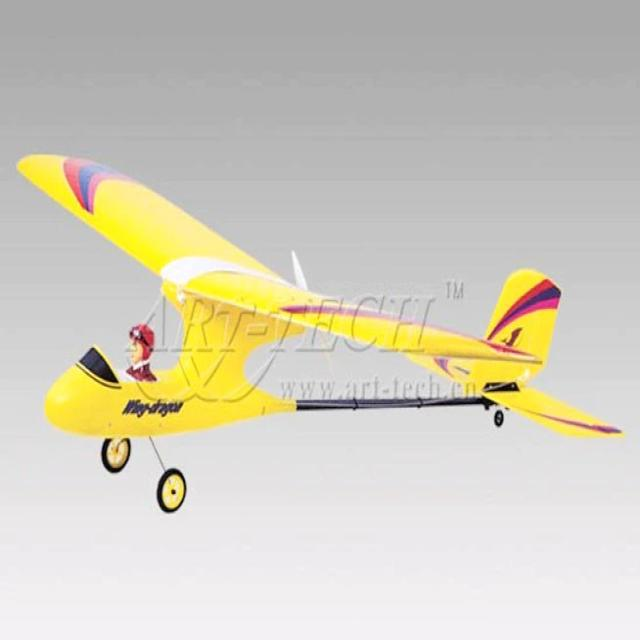iha: (14, 151, 627, 515)
